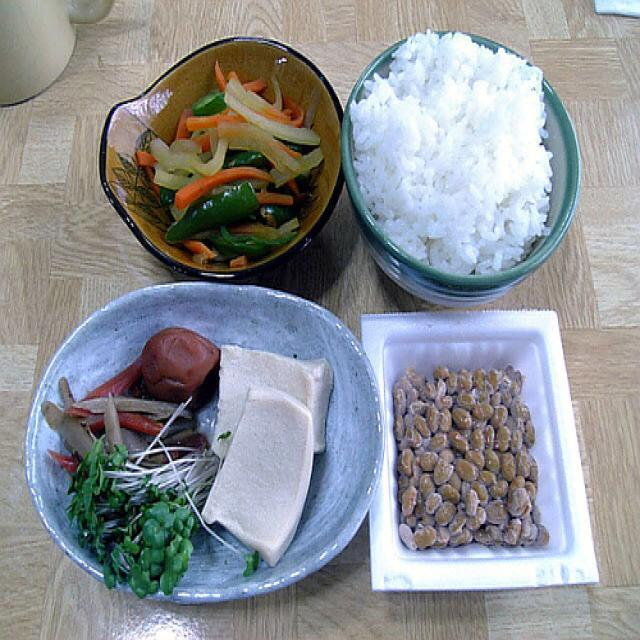Rice: (370, 39, 558, 264)
